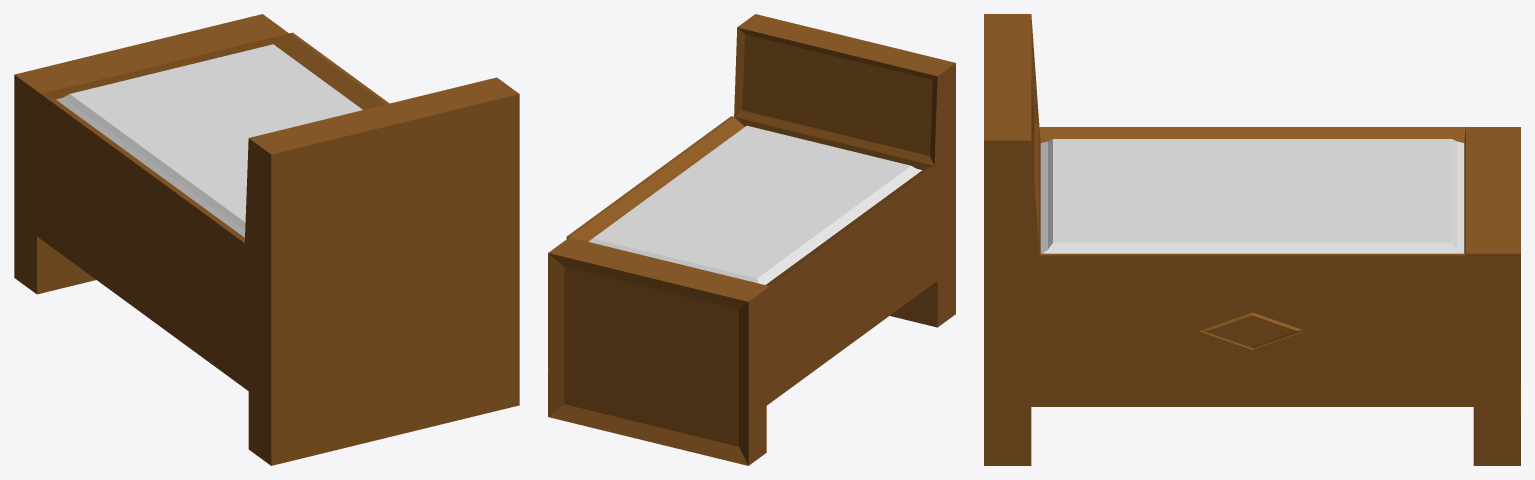
The model's file is bed.fbx.
3 views of the same model, side by side, from view 1: azimuth 30°, elevation 25°; view 2: azimuth 150°, elevation 25°; view 3: azimuth 270°, elevation 25° (orthographic). The views are drawn at different scales.
Parts seen in each view (by area): view 1: Bed.001; view 2: Bed.001; view 3: Bed.001.
Part boxes in pixels (bbox=[...]): Bed.001: bbox=[14, 14, 519, 465]; Bed.001: bbox=[548, 14, 955, 465]; Bed.001: bbox=[984, 14, 1520, 465].
Bounding box in the file's own units: 1098 × 1297 × 1940.
